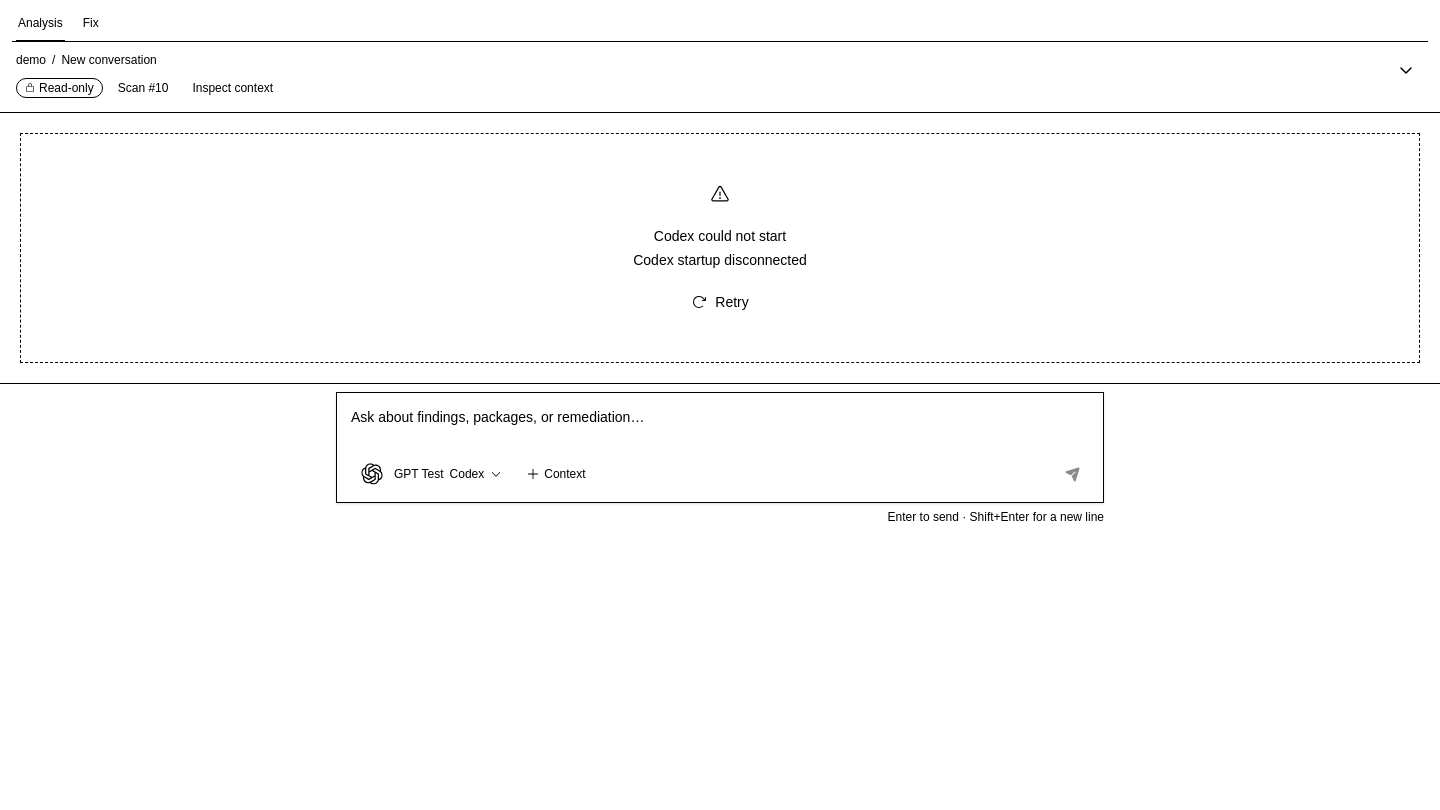
Test case: RepositoryChat › leaves a rejected Codex startup and allows an explicit retry
Expected: the heading "Codex could not start" is shown, [654,228,786,244]
Expected: the text "Codex startup disconnected" is shown, [633,250,807,270]
Click the button "Retry".
click(720, 302)  # box [676,282,764,322]
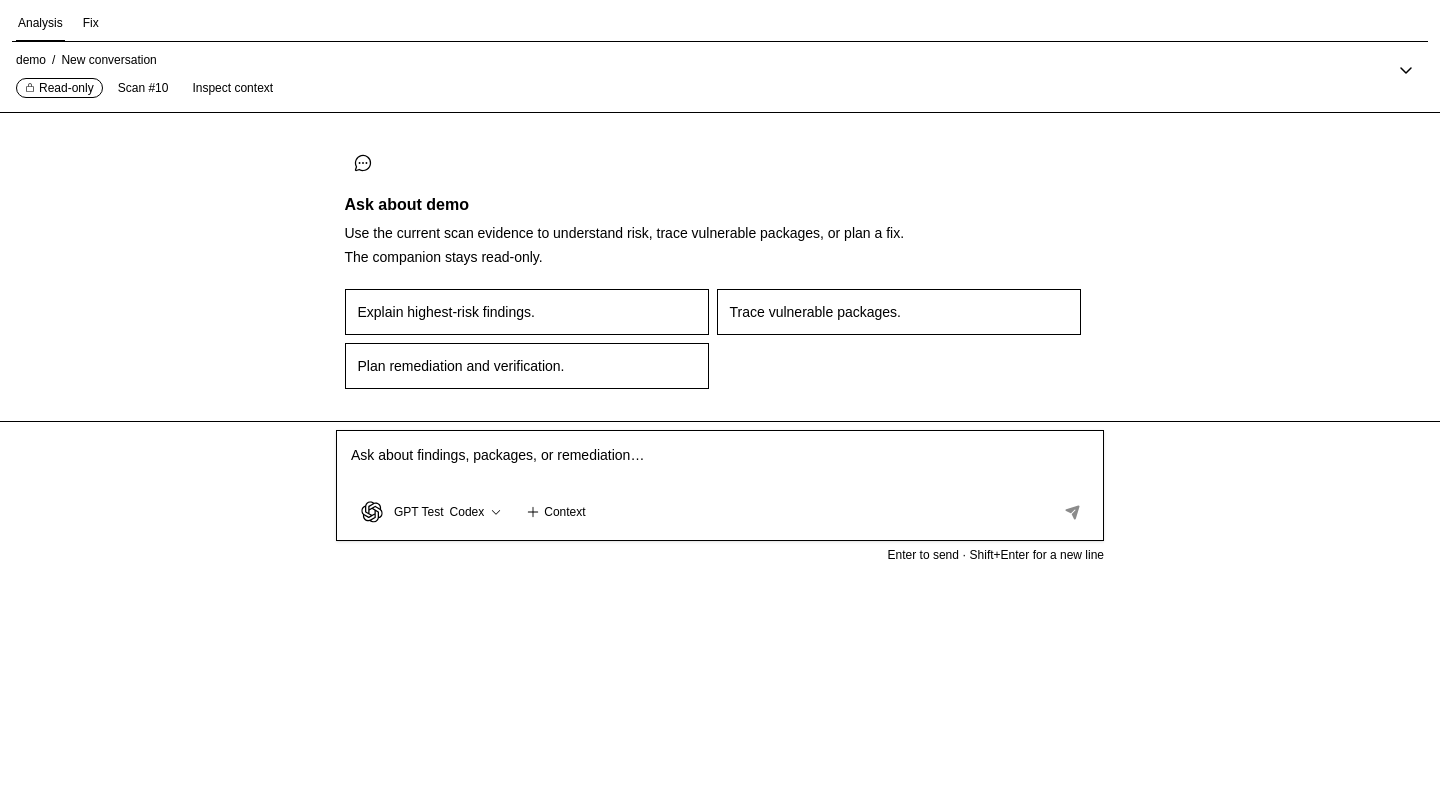
Expected: the text box named "Message the security companion" is enabled, [347,437,1093,481]
Expected: the heading "Codex could not start" is gone
